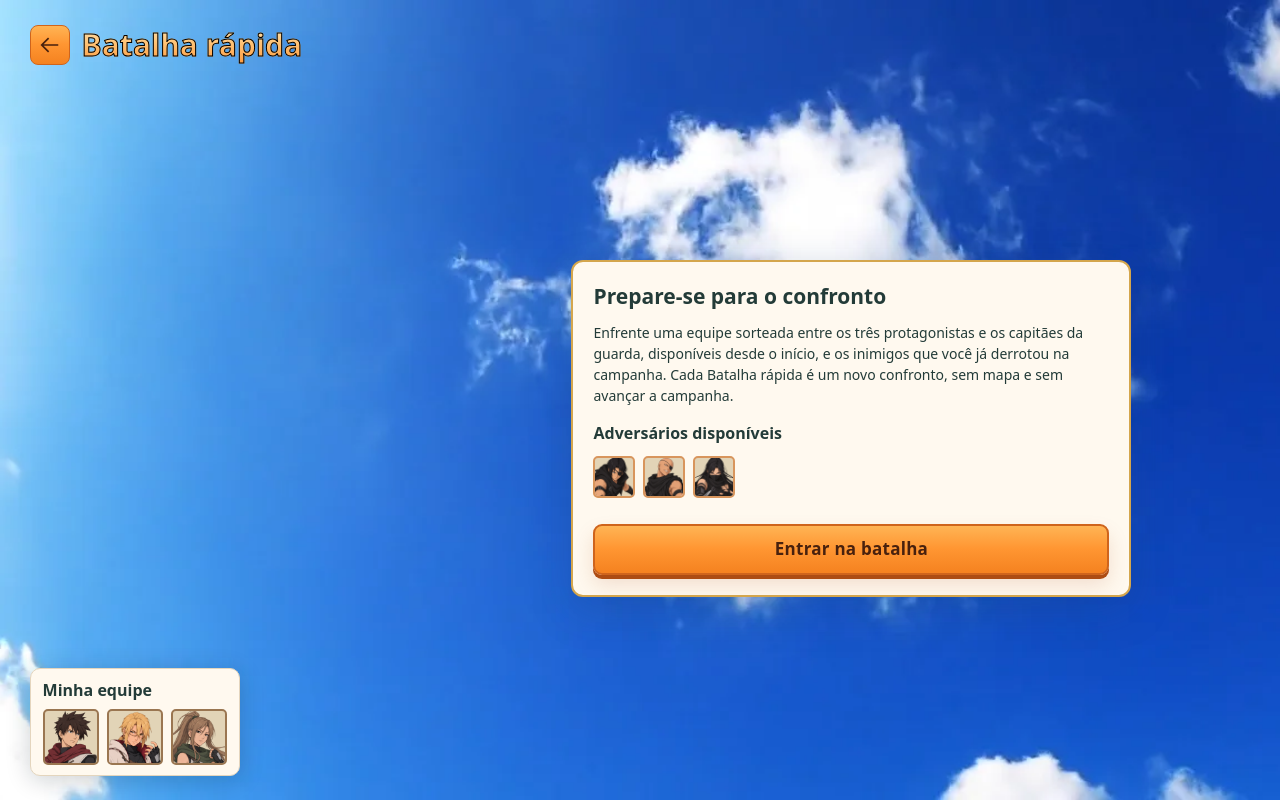
Test: preserva a página após falha no início e permite tentar novamente
Later steps or results of the test are not shown.
Expected: the list named "Adversários disponíveis" is shown, [594,456,736,498]
Click the button "Entrar na batalha" at (852, 550), box [594,524,1110,575]
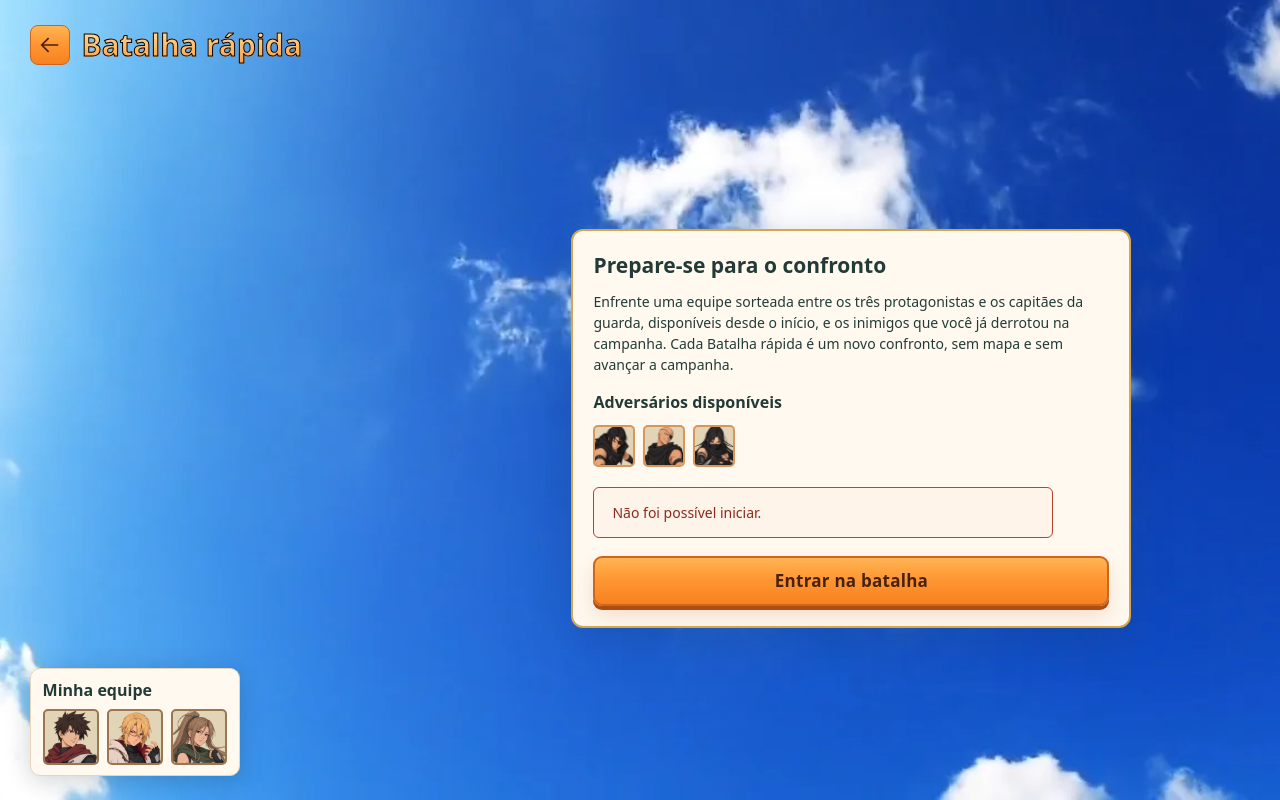
Expected: the message reads "Não foi possível iniciar.", [612,503,761,522]
